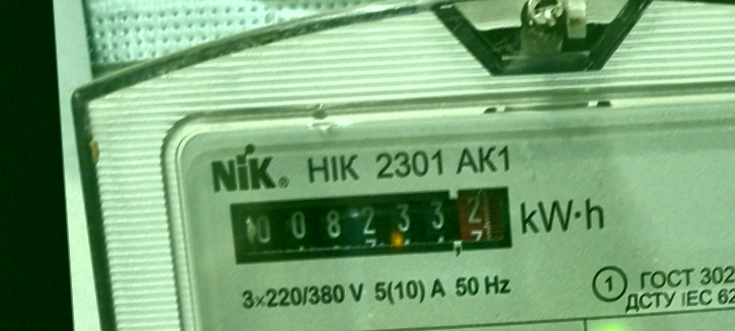0: (253, 213, 275, 246), (289, 210, 309, 242)
2: (358, 205, 380, 238), (466, 194, 485, 227)
3: (395, 202, 414, 235), (430, 199, 448, 231)
8: (325, 208, 344, 241)
screen: (220, 175, 526, 276)
